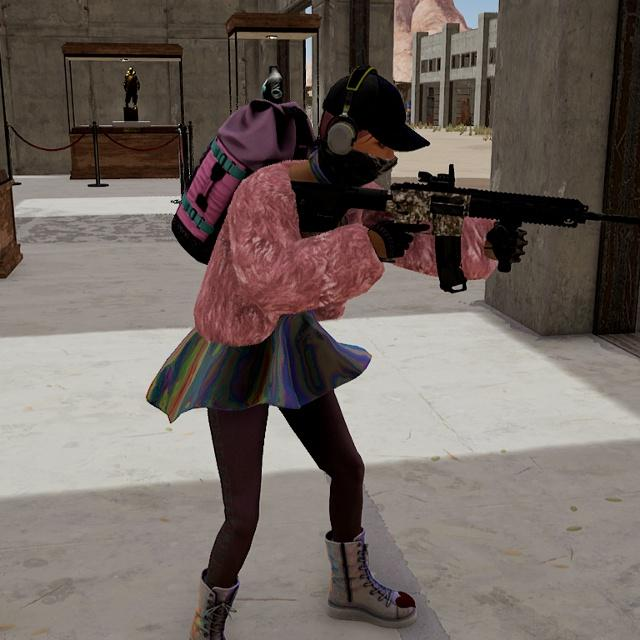head: (310, 63, 409, 191)
people: (164, 59, 430, 640)
